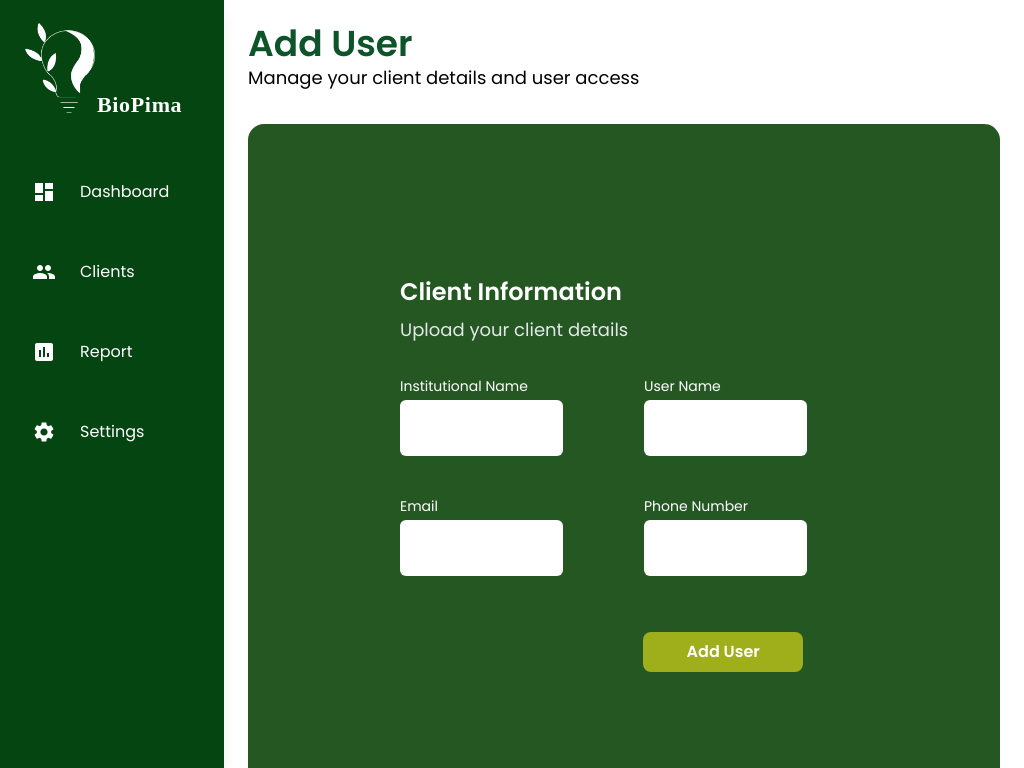
AddUser Page › shows validation errors when submitting empty form
Click the button "Add User".
click(723, 652)  # box x1=643 y1=632 x2=803 y2=672
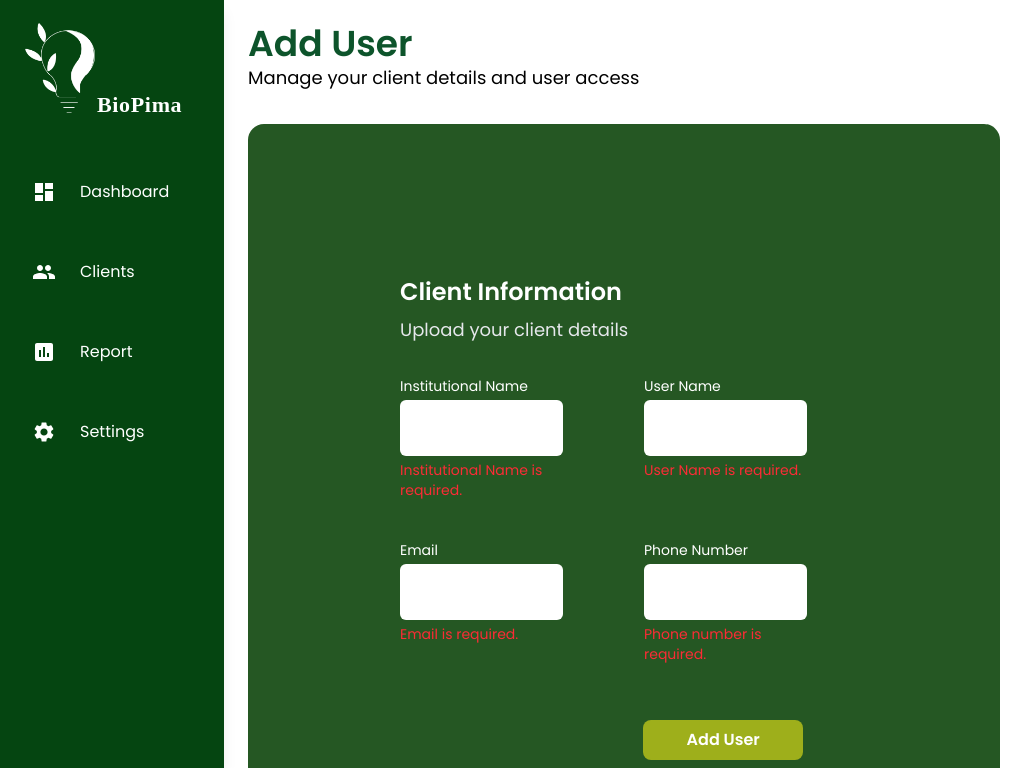
Now the text "Institutional Name is required." is shown, box x1=400 y1=460 x2=563 y2=500
Now the text "User Name is required." is shown, box x1=644 y1=460 x2=807 y2=480
Now the text "Email is required." is shown, box x1=400 y1=624 x2=518 y2=644
